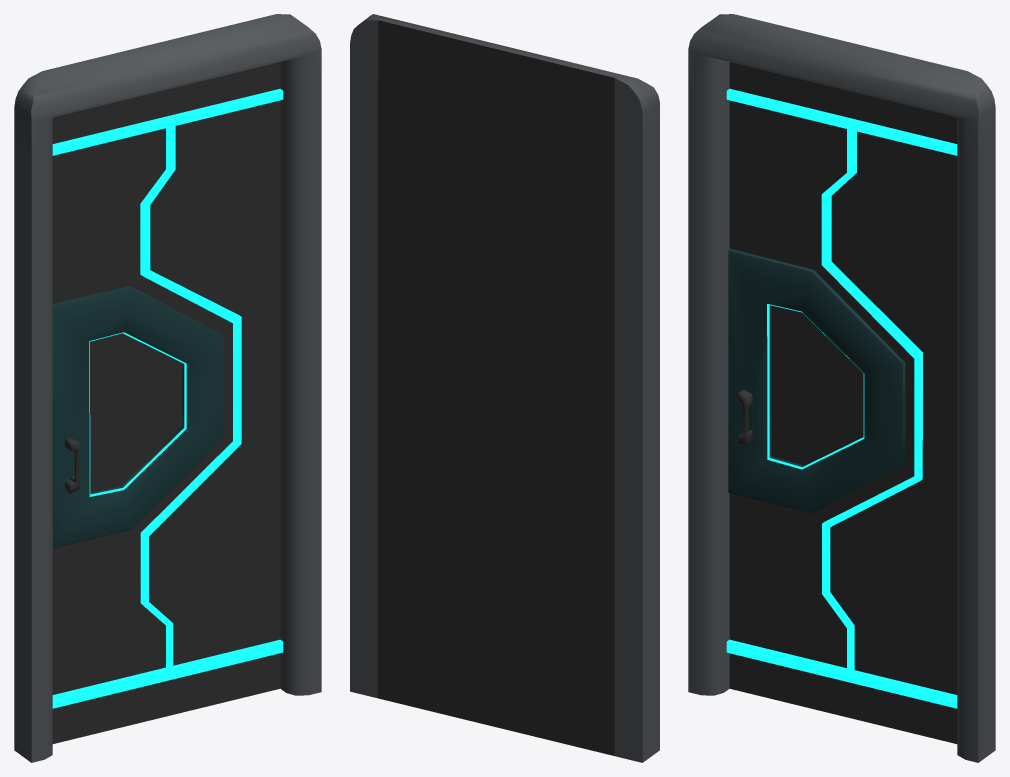
Rendered from door.fbx.
3 renders of one model, left to right at view 1: azimuth 30°, elevation 25°; view 2: azimuth 150°, elevation 25°; view 3: azimuth 330°, elevation 25°, orthographic.
Visible parts, largest first — view 1: Cube; view 2: Cube; view 3: Cube.
Part boxes in pixels (box(x1,y1,x2,y2)): Cube: box(14, 14, 321, 762); Cube: box(350, 14, 659, 762); Cube: box(688, 14, 995, 762).
Bounding box in the file's own units: 214 × 474 × 21.9.
